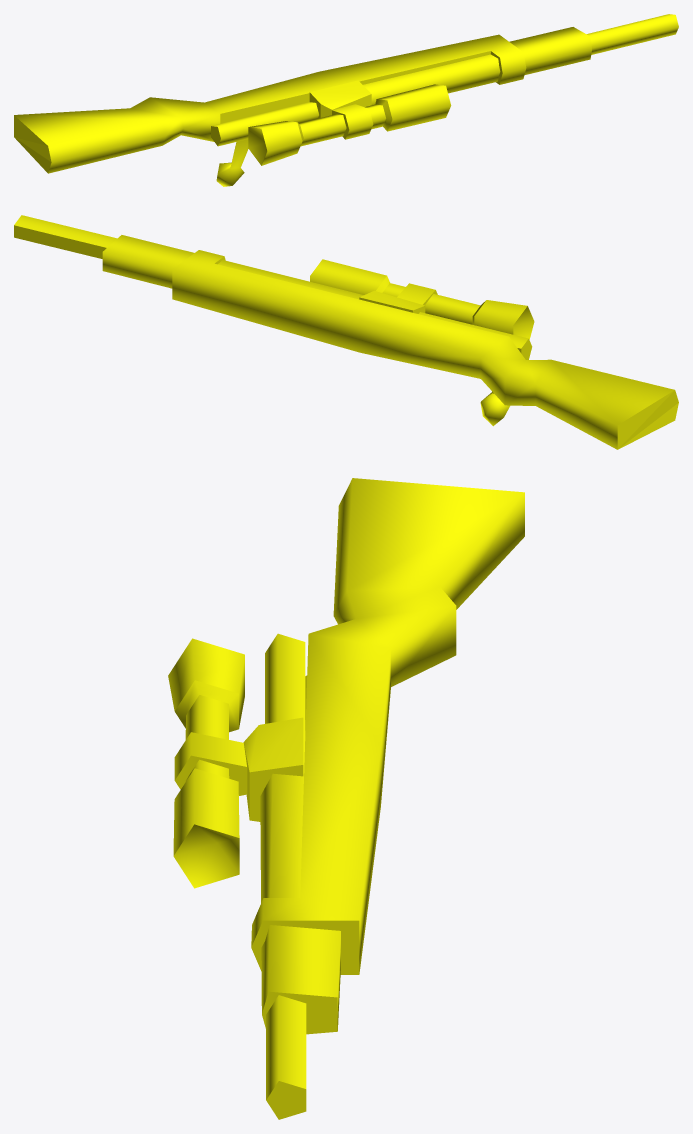
File: weapon_98k_scope.glb
3 renders of one model, top to bottom at view 1: azimuth 30°, elevation 25°; view 2: azimuth 150°, elevation 25°; view 3: azimuth 270°, elevation 25°, orthographic. The views are drawn at different scales.
Visible parts, largest first — view 1: weapon_98k_scope; view 2: weapon_98k_scope; view 3: weapon_98k_scope.
Boxes of the visible parts, x1=… form: weapon_98k_scope: x1=14, y1=14, x2=678, y2=186; weapon_98k_scope: x1=14, y1=215, x2=678, y2=449; weapon_98k_scope: x1=168, y1=478, x2=524, y2=1119.
Size of the model in its own units: 2.03 by 0.2641 by 0.5159.
1 material, 1 textured.
